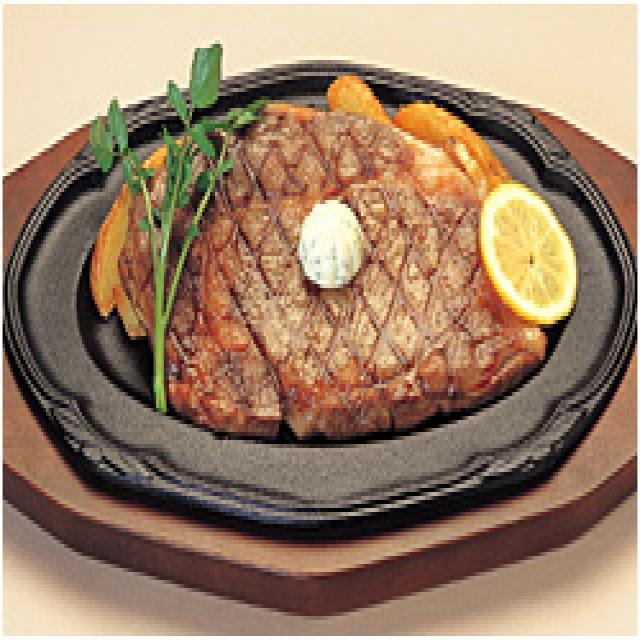Beef Steak: (138, 136, 513, 427)
